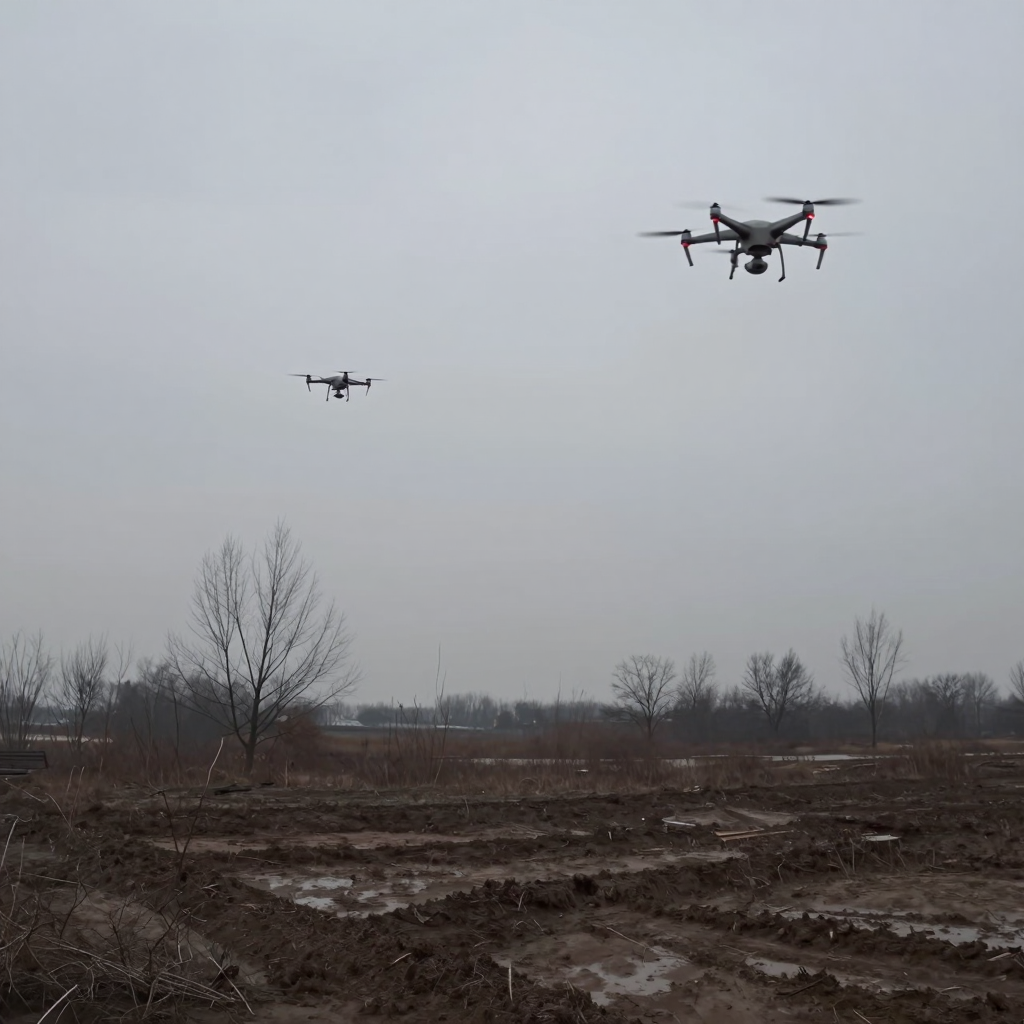drone: (637, 197, 863, 282), (287, 370, 386, 402)
